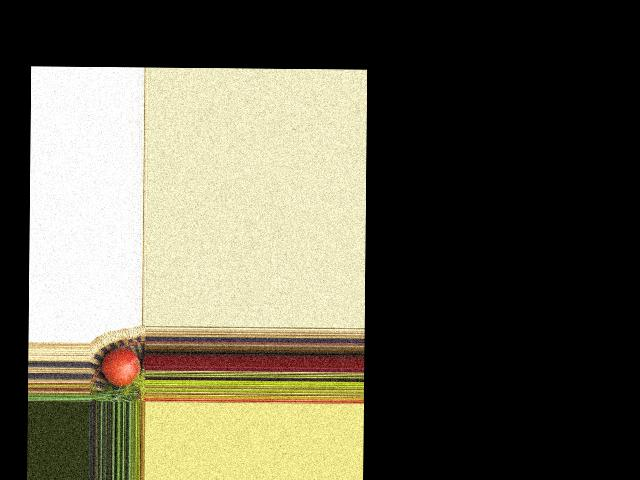tomato: (101, 348, 140, 387)
